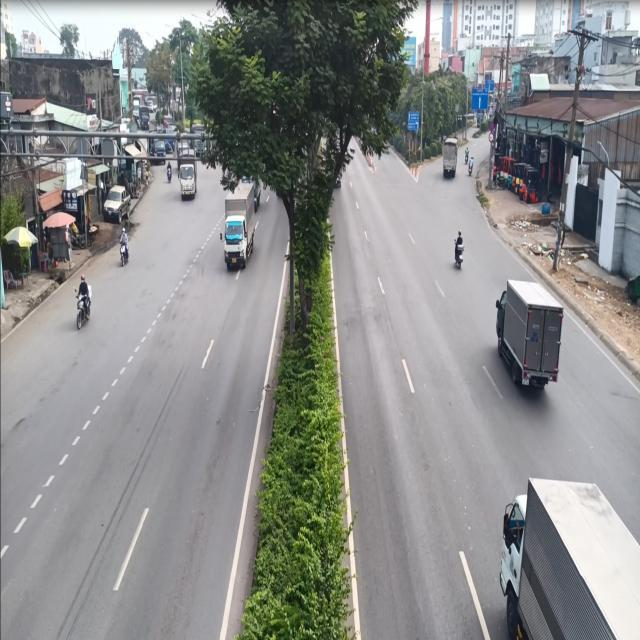car: (103, 186, 132, 221)
motorcycle: (75, 296, 92, 331), (453, 246, 468, 271), (115, 246, 130, 267), (466, 166, 476, 177), (167, 170, 173, 183), (464, 155, 471, 164)
person: (78, 274, 90, 304), (120, 226, 128, 251), (456, 229, 464, 251), (470, 152, 476, 168), (466, 147, 471, 158), (168, 162, 172, 171)
truck: (501, 478, 640, 640), (496, 281, 571, 400), (220, 180, 262, 273), (173, 142, 202, 209), (442, 139, 459, 178), (149, 129, 164, 167)
